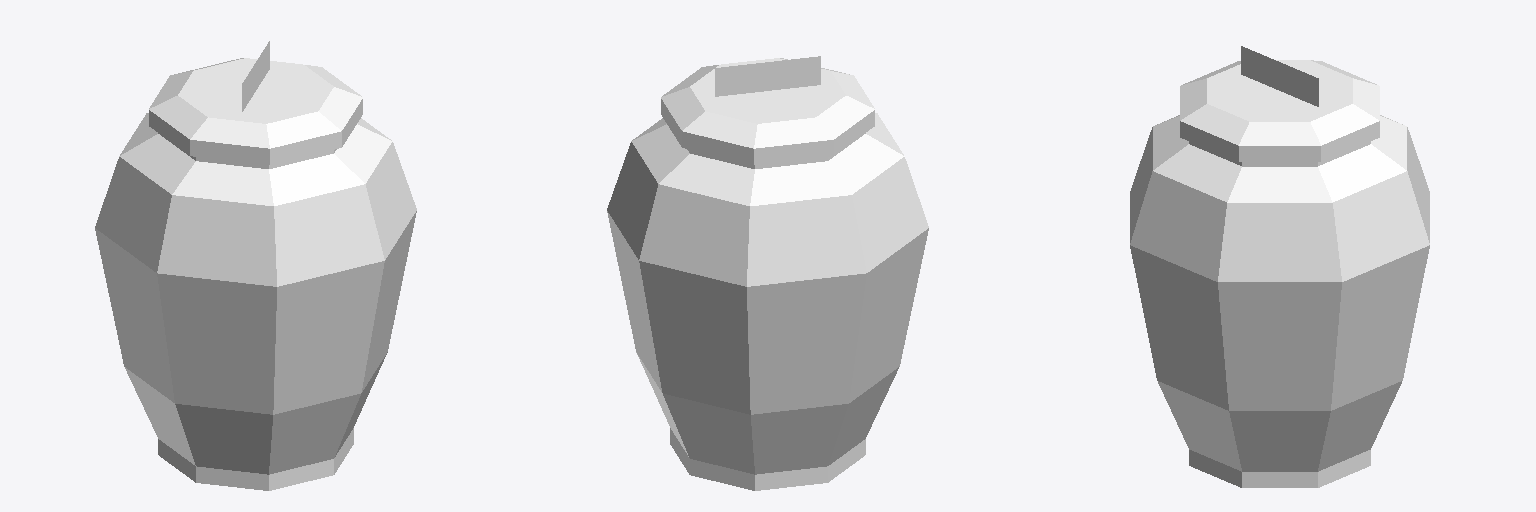
Rendered from dolia2.obj.
3 renders of one model, left to right at view 1: azimuth 30°, elevation 25°; view 2: azimuth 150°, elevation 25°; view 3: azimuth 270°, elevation 25°, orthographic.
Parts seen in each view (by area): view 1: dolia, handle; view 2: dolia, handle; view 3: dolia, handle.
Boxes of the visible parts, x1,y1,x2,y2 form: dolia: [95, 58, 416, 490]; handle: [242, 41, 269, 111]; dolia: [607, 58, 928, 490]; handle: [715, 56, 820, 96]; dolia: [1130, 60, 1429, 487]; handle: [1241, 46, 1318, 106].
Bounding box in the file's own units: 1.03 × 1.47 × 1.03.